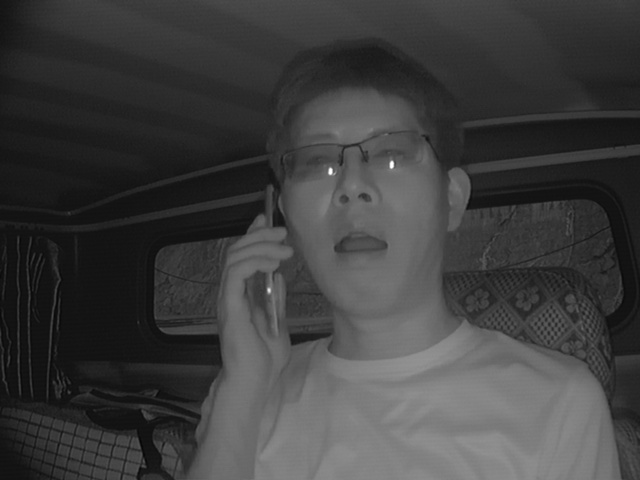hand: (214, 216, 301, 377)
